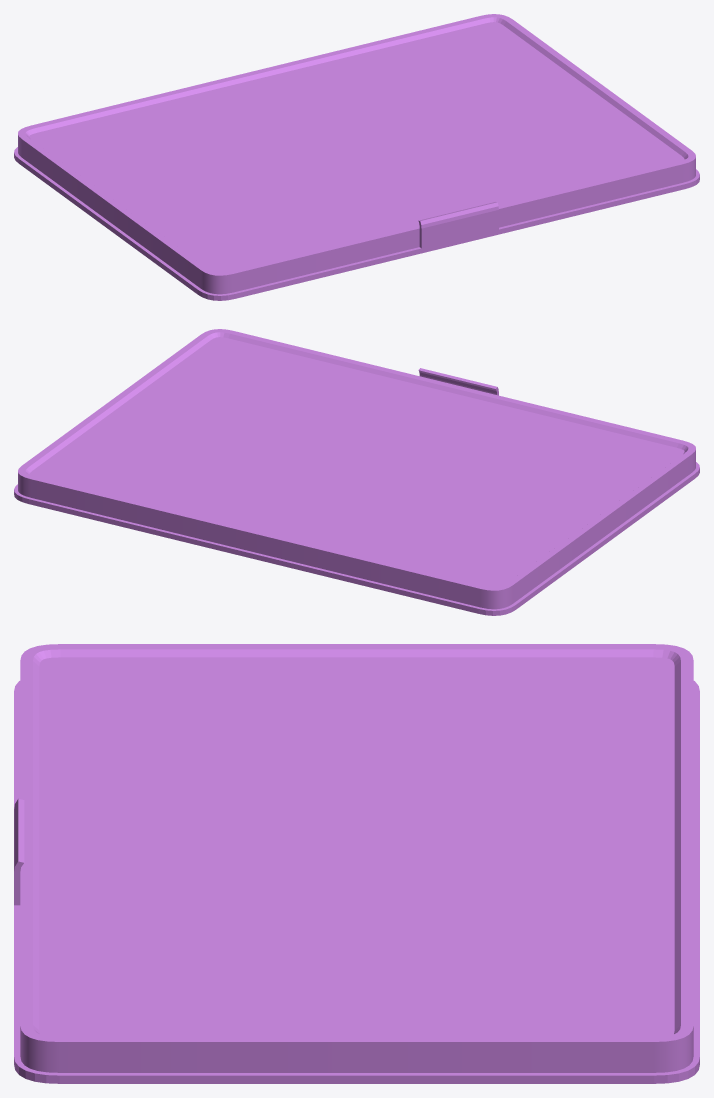
Rendered from tablet.fbx.
3 views of the same model, one above another, from view 1: azimuth 30°, elevation 25°; view 2: azimuth 150°, elevation 25°; view 3: azimuth 270°, elevation 25° (orthographic). The views are drawn at different scales.
Parts seen in each view (by area): view 1: IPone; view 2: IPone; view 3: IPone.
Part boxes in pixels (box(x1,y1,x2,y2)): IPone: box(14, 14, 699, 300); IPone: box(14, 329, 699, 615); IPone: box(14, 644, 699, 1083).
Size of the model in its own units: 18.82 by 1.14 by 13.53.
